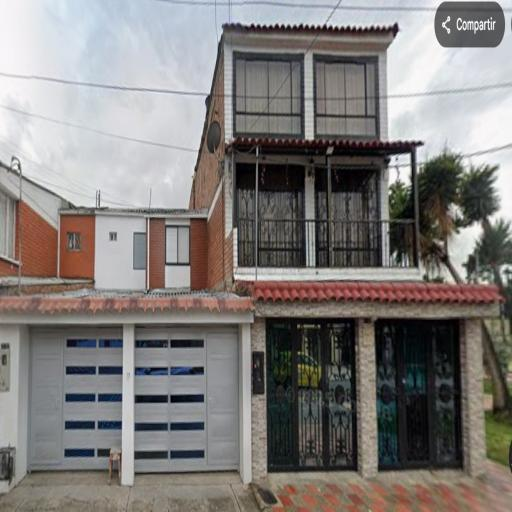fachada: (218, 15, 495, 479), (5, 177, 248, 470)
